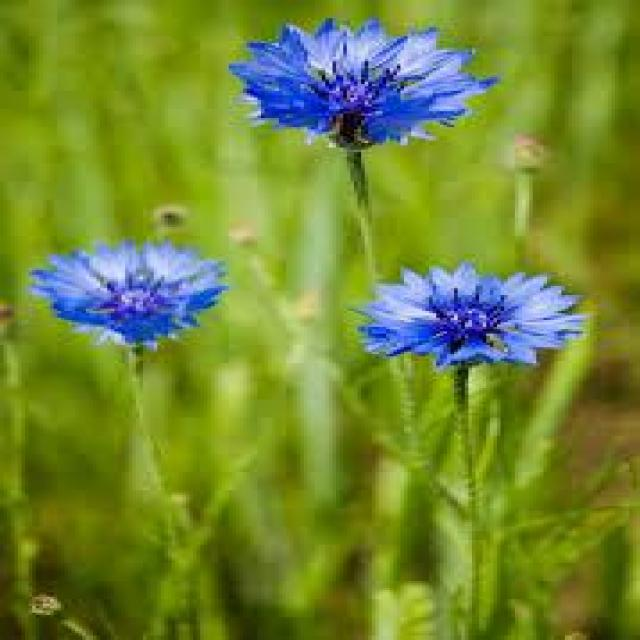organic waste: (248, 25, 478, 145), (349, 258, 588, 371), (32, 246, 222, 335)
